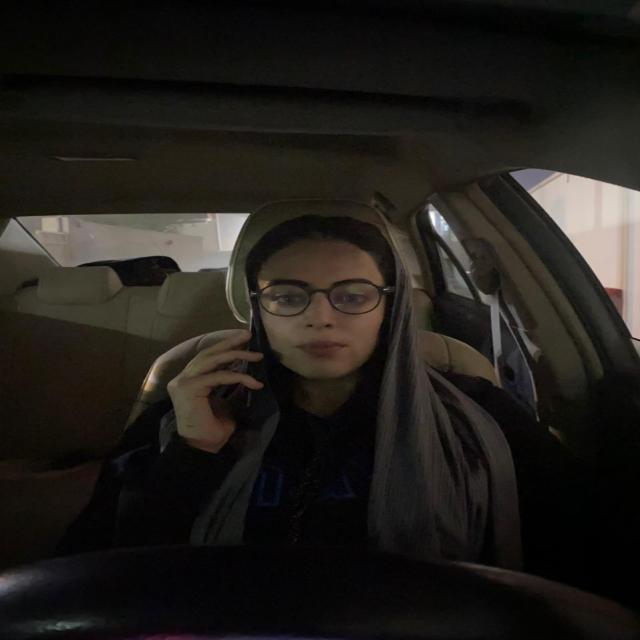person: (243, 212, 416, 398)
